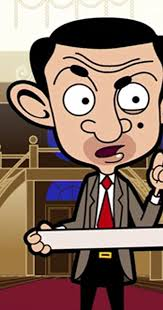mrbean: (7, 16, 163, 310)
